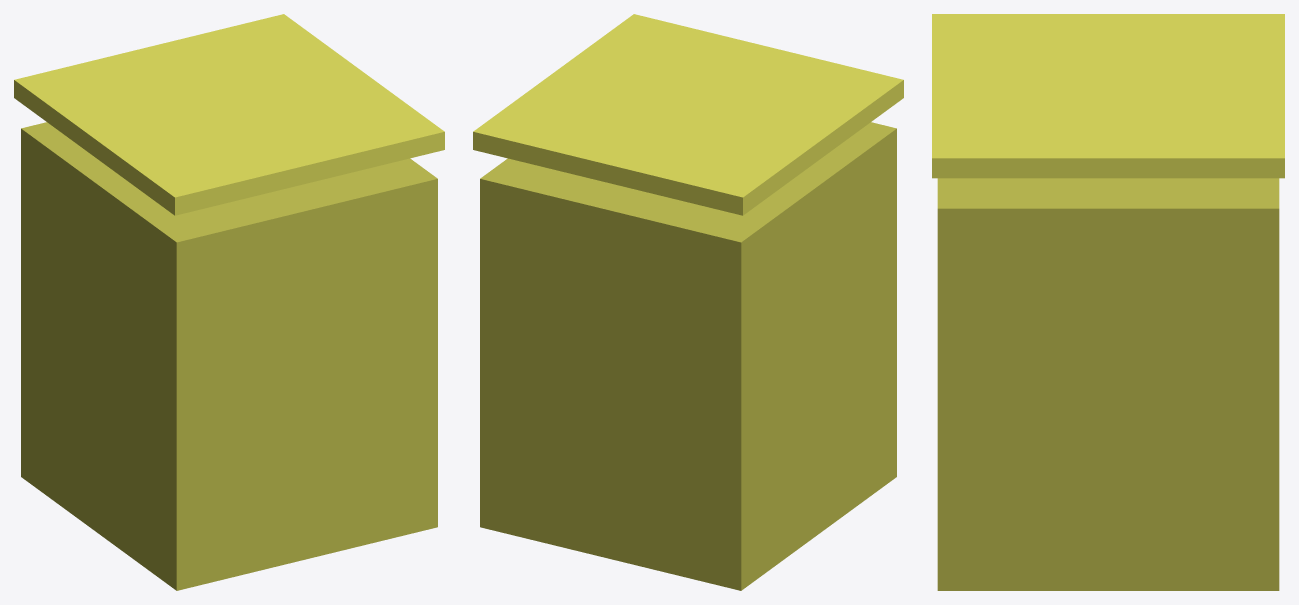
File: eteks-cooker.glb
The picture shows the model from 3 angles, left to right: view 1: azimuth 30°, elevation 25°; view 2: azimuth 150°, elevation 25°; view 3: azimuth 270°, elevation 25°; orthographic projection. The views are drawn at different scales.
Size of the model in its own units: 62 by 87 by 64.
